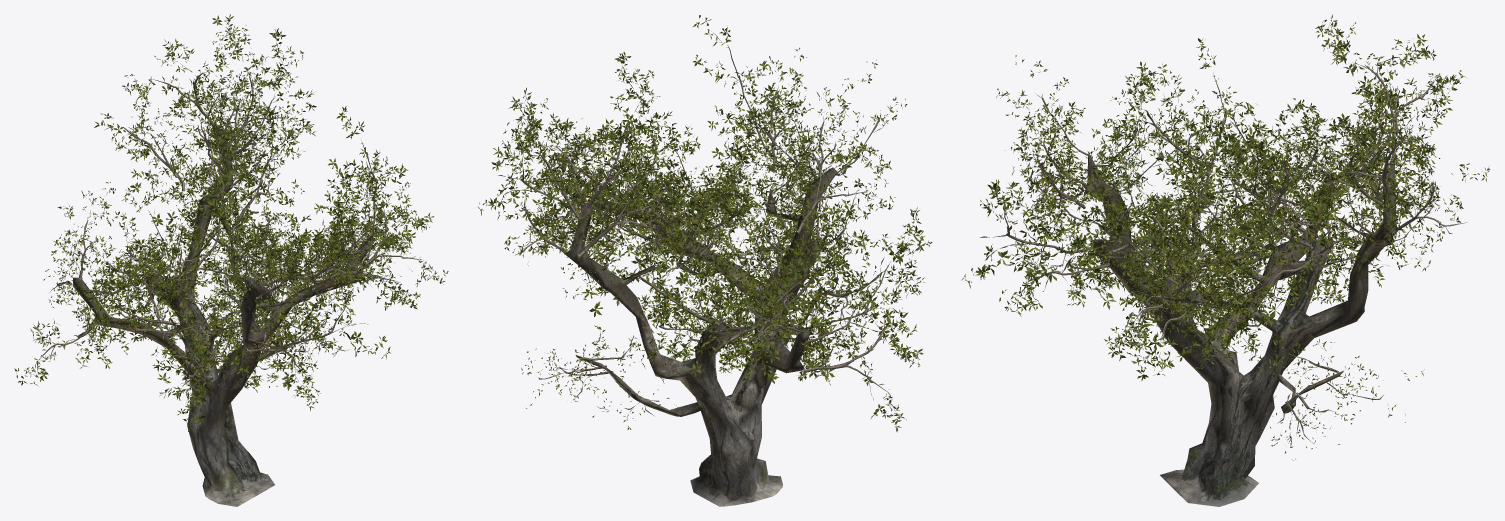
File: island_tree_01.glb
3 views of the same model, side by side, from view 1: azimuth 30°, elevation 25°; view 2: azimuth 150°, elevation 25°; view 3: azimuth 270°, elevation 25° (orthographic). The views are drawn at different scales.
Parts seen in each view (by area): view 1: island_tree_01_LOD0; view 2: island_tree_01_LOD0; view 3: island_tree_01_LOD0.
Boxes of the visible parts, x1,y1,x2,y2 form: island_tree_01_LOD0: (14,14,448,506); island_tree_01_LOD0: (477,15,932,506); island_tree_01_LOD0: (961,14,1490,506).
Bounding box in the file's own units: 4.74 × 5.02 × 4.81.
Materials: 3 (3 with a texture image).
